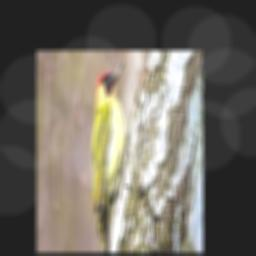Woodpecker: (91, 62, 131, 253)
